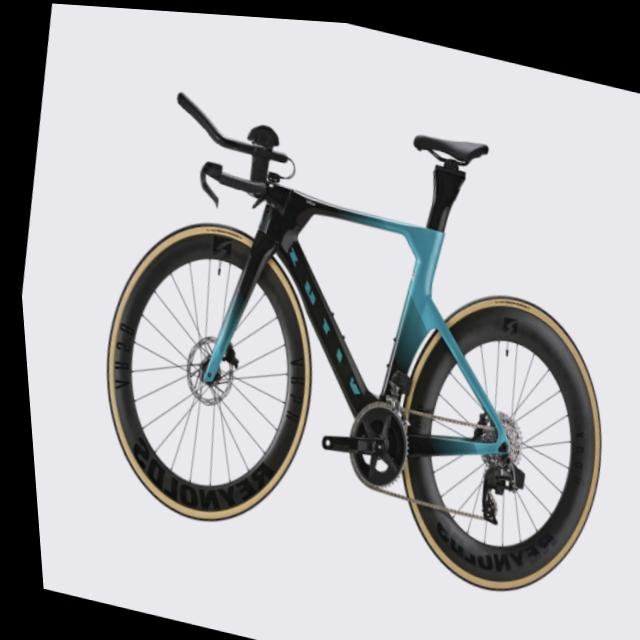TT-bike: (55, 52, 640, 612)
